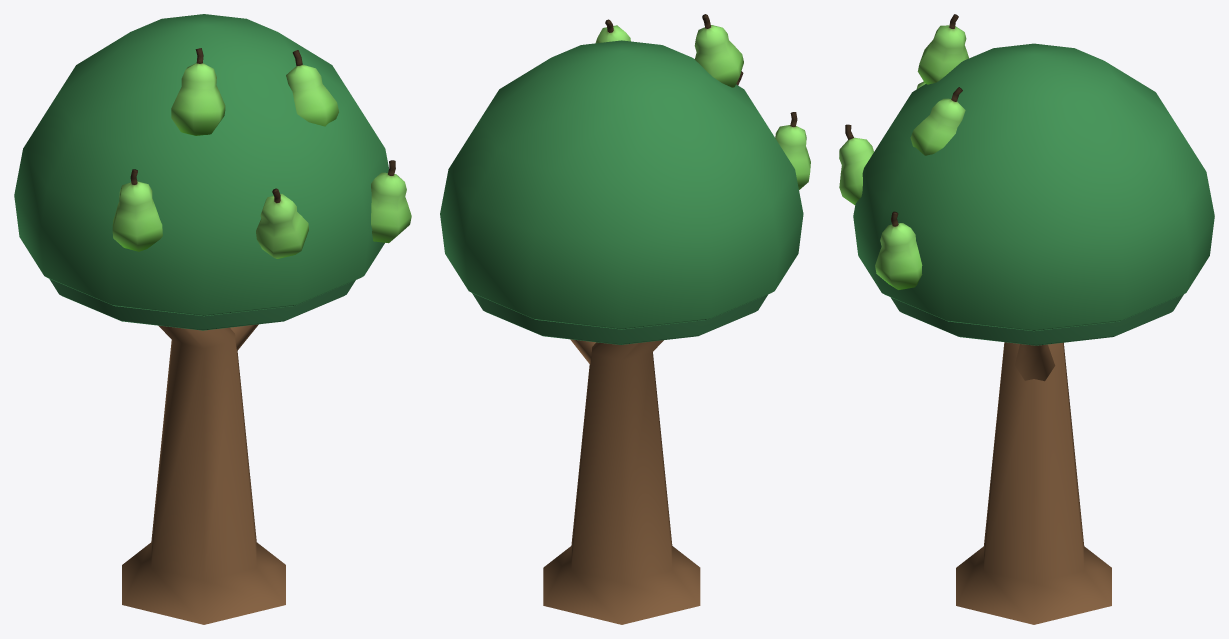
Rendered from tree_pear.fbx.
The picture shows the model from 3 angles, left to right: view 1: azimuth 30°, elevation 25°; view 2: azimuth 150°, elevation 25°; view 3: azimuth 270°, elevation 25°; orthographic projection. The views are drawn at different scales.
Parts seen in each view (by area): view 1: tree_fruit, pear4, pear, pear3, pear1, pear2; view 2: tree_fruit, pear4, pear; view 3: tree_fruit, pear1, pear4, pear2, pear3.
Part boxes in pixels (<box>): tree_fruit: <box>14,14,388,624</box>; pear4: <box>171,48,225,135</box>; pear: <box>112,169,162,251</box>; pear3: <box>256,188,308,258</box>; pear1: <box>371,160,411,243</box>; pear2: <box>286,50,338,126</box>; tree_fruit: <box>440,40,803,624</box>; pear4: <box>694,14,743,87</box>; pear: <box>775,112,810,189</box>; tree_fruit: <box>853,43,1214,624</box>; pear1: <box>875,211,922,289</box>; pear4: <box>917,14,968,84</box>; pear2: <box>910,87,965,155</box>; pear3: <box>839,124,873,205</box>.
Size of the model in its own units: 4.06 by 6.82 by 4.22.
